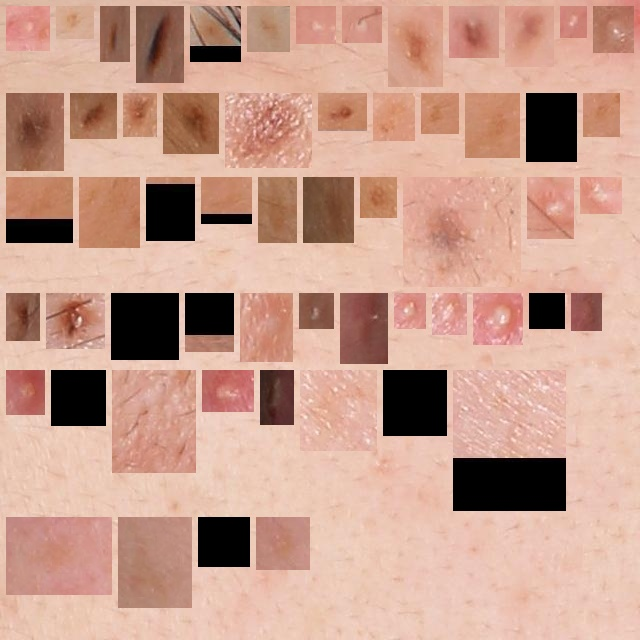hypertrophic_scar: (120, 378, 188, 465)
melasma: (461, 378, 558, 503), (14, 525, 104, 587), (126, 525, 184, 600), (308, 378, 369, 443), (119, 301, 171, 352), (14, 185, 65, 235), (87, 185, 132, 240), (391, 378, 439, 428), (473, 101, 512, 150), (534, 101, 569, 154), (311, 185, 346, 235), (154, 185, 187, 233), (59, 378, 98, 418), (193, 301, 226, 344), (264, 525, 302, 562), (198, 14, 233, 54), (206, 525, 242, 559), (266, 185, 289, 235), (209, 185, 244, 216), (381, 101, 407, 133), (255, 14, 282, 44), (591, 101, 612, 129), (429, 101, 451, 126), (64, 14, 86, 31)
nevus: (411, 185, 513, 279), (233, 101, 304, 160), (14, 101, 56, 163), (396, 14, 435, 79), (144, 14, 176, 75), (171, 101, 211, 146), (54, 301, 97, 341), (513, 14, 546, 59), (457, 14, 491, 50), (78, 101, 109, 131), (326, 101, 359, 123), (14, 301, 32, 333), (108, 14, 122, 54), (368, 185, 389, 210), (131, 101, 149, 129), (537, 301, 557, 321)
pustule: (248, 301, 285, 354), (348, 301, 380, 356), (535, 185, 566, 231), (481, 301, 515, 337), (210, 378, 246, 404), (14, 14, 42, 43), (601, 14, 626, 45), (268, 378, 286, 417), (14, 378, 37, 407), (588, 185, 614, 206), (304, 14, 328, 36), (350, 14, 374, 35), (440, 301, 459, 327), (307, 301, 326, 321), (579, 301, 594, 323), (402, 301, 418, 321), (568, 14, 579, 30)
